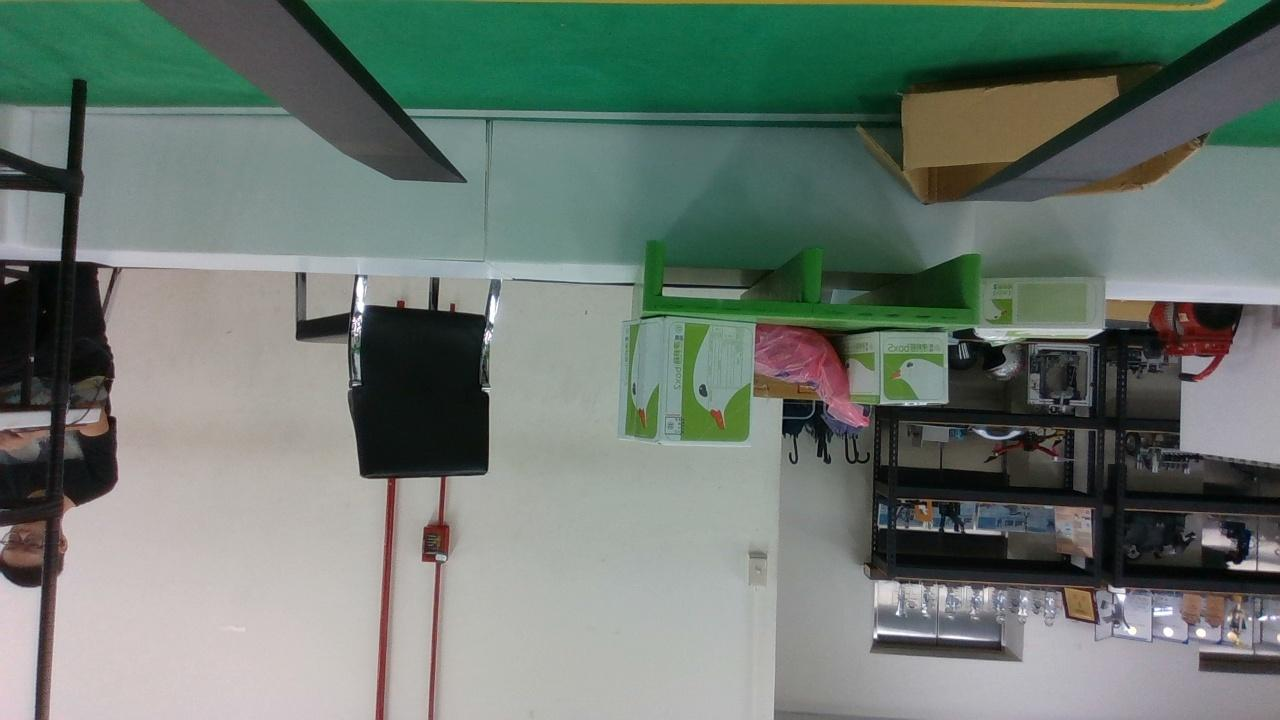Pallet: (641, 249, 983, 322)
